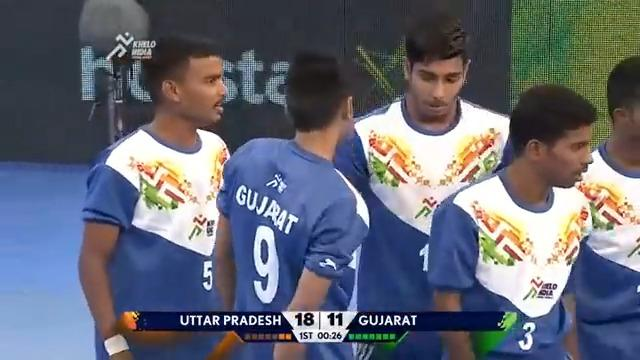Player: (331, 11, 513, 358), (77, 2, 234, 358), (209, 49, 371, 358), (425, 82, 597, 359), (564, 54, 639, 358)
